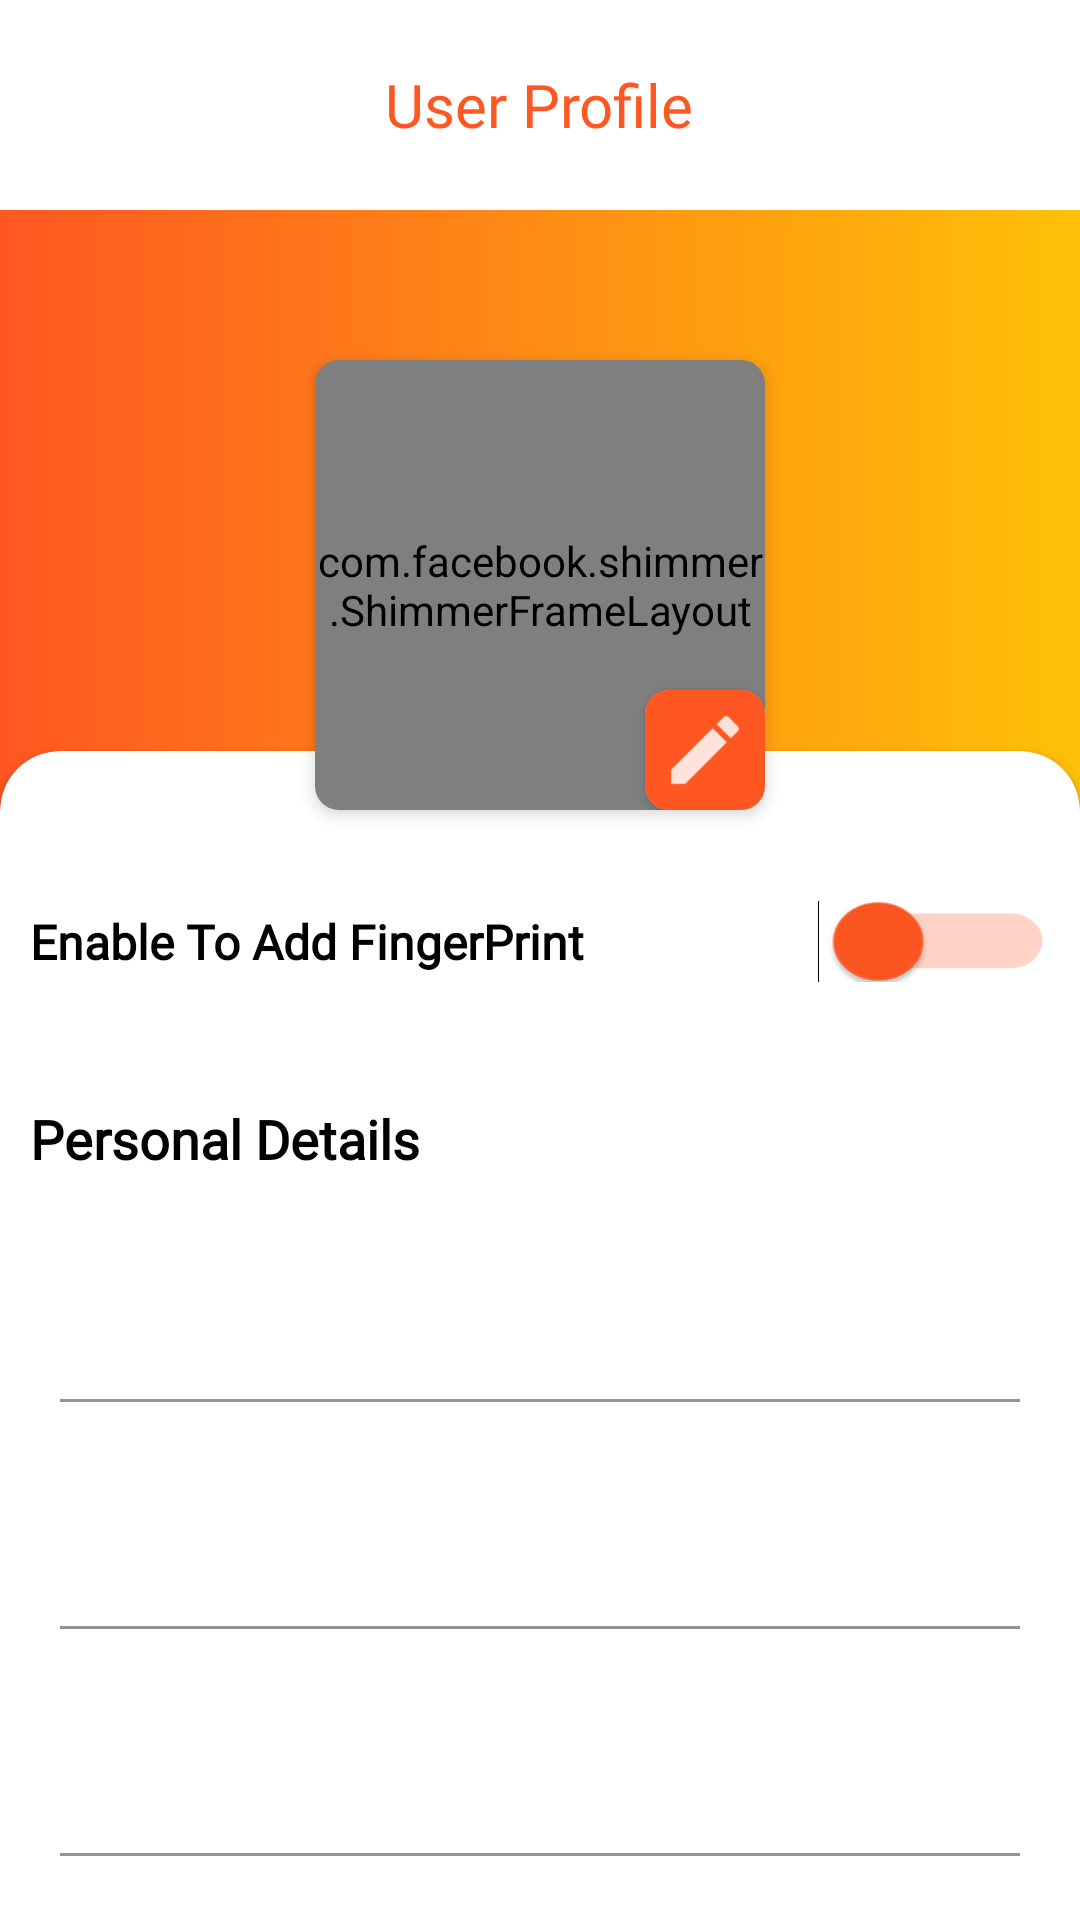

Where to tap for icons on this 1080 x 1920 app screen, as point (x, y):
edit: point (705, 750)
